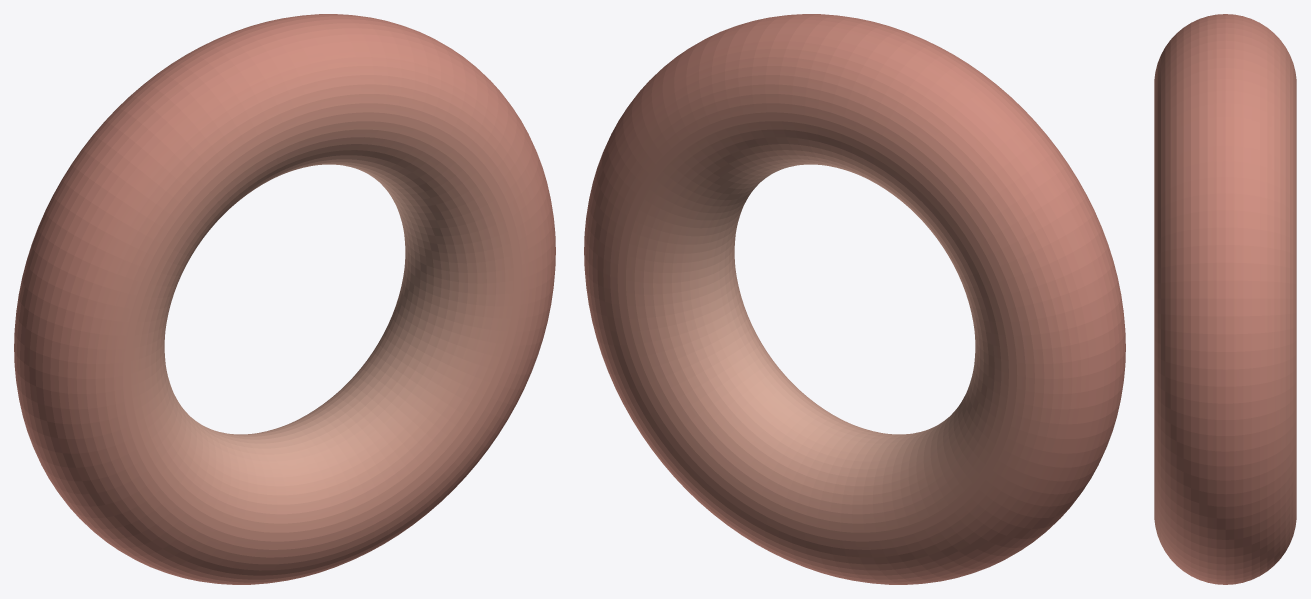
The picture shows the model from 3 angles, left to right: view 1: azimuth 30°, elevation 25°; view 2: azimuth 150°, elevation 25°; view 3: azimuth 270°, elevation 25°; orthographic projection. The views are drawn at different scales.
Parts seen in each view (by area): view 1: world; view 2: world; view 3: world.
Boxes of the visible parts, x1=… form: world: x1=14, y1=14, x2=555, y2=584; world: x1=584, y1=14, x2=1125, y2=584; world: x1=1154, y1=14, x2=1296, y2=584.
Bounding box in the file's own units: 29.33 × 29.33 × 7.32.
